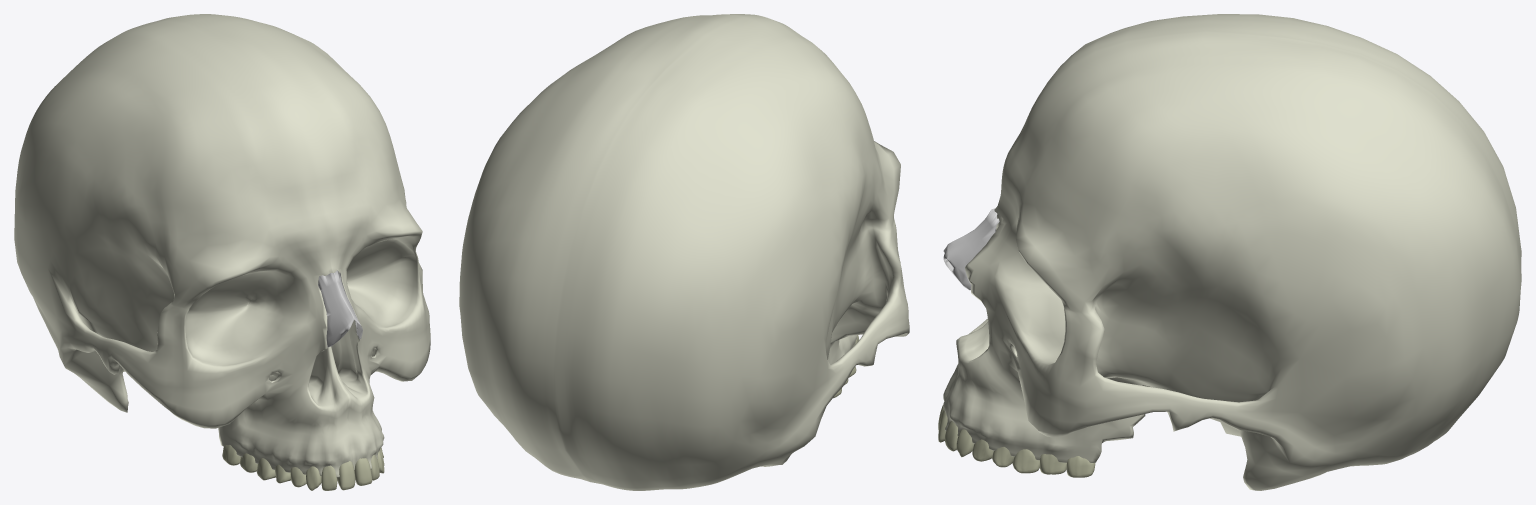
The model's file is skull.dae.
The picture shows the model from 3 angles, left to right: view 1: azimuth 30°, elevation 25°; view 2: azimuth 150°, elevation 25°; view 3: azimuth 270°, elevation 25°; orthographic projection. The views are drawn at different scales.
Visible parts, largest first — view 1: Skul_000; view 2: Skul_000; view 3: Skul_000.
Part boxes in pixels (x1,y1,x2,y2): Skul_000: [14, 14, 430, 490]; Skul_000: [459, 14, 909, 490]; Skul_000: [938, 14, 1521, 490].
Size of what is drawn, in the model's own units: 6.22 by 8.95 by 6.94.
